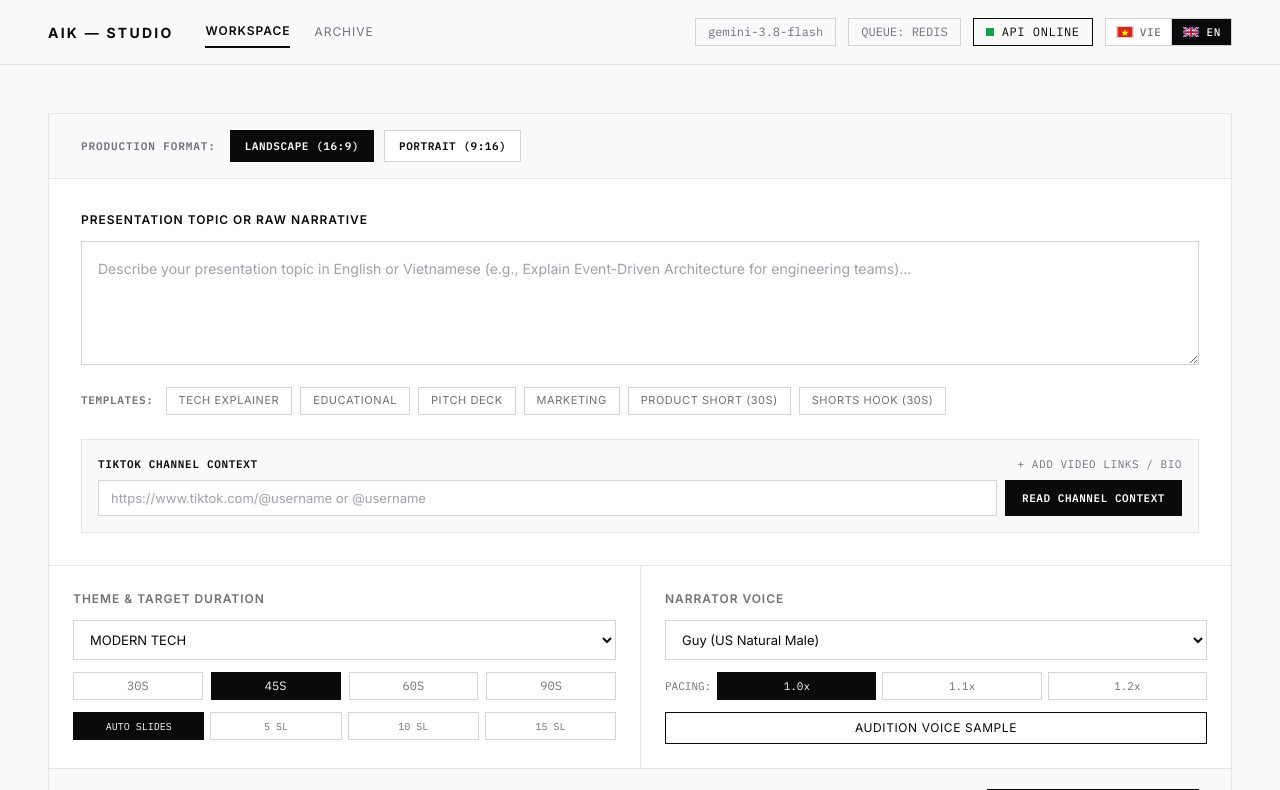
Scenario: Interactive Web Studio User Flows (jsdom + Testing Library) › defaults to EN on initial load, couples top-right VIE/EN switcher with narrator voice, and omits duplicate language buttons
Expected: the element with test id "api-status-chip" reads "API ONLINE", x1=1002 y1=24 x2=1080 y2=39
Expected: the 1st icon is shown, x1=1116 y1=26 x2=1134 y2=38
Click the button with test id "lang-switch-vie" at (1139, 32), box x1=1106 y1=19 x2=1172 y2=45
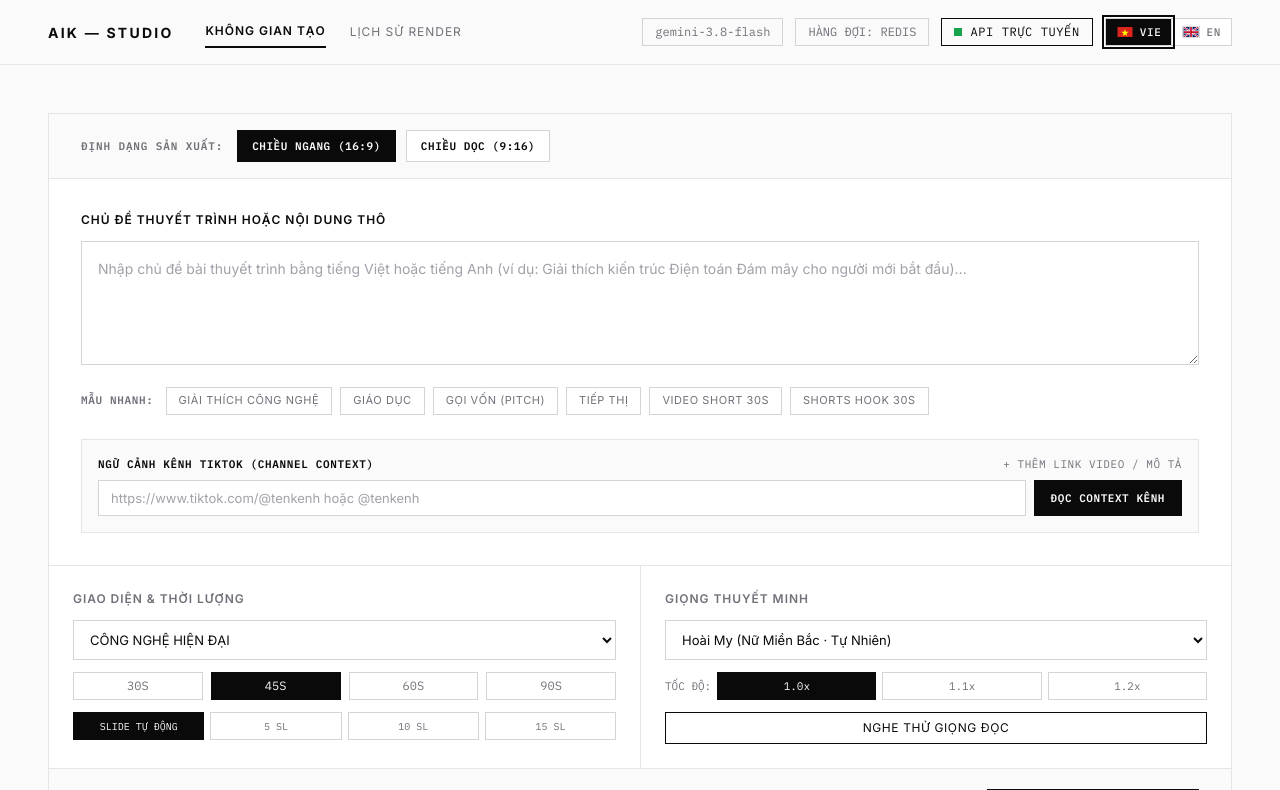
Expected: the text box labelled "Chủ Đề Thuyết Trình Hoặc Nội Dung Thô" is shown, x1=81 y1=241 x2=1199 y2=365
Result: the dropdown named "Narrator Voice Selection" shows "Hoài My (Nữ Miền Bắc · Tự Nhiên)" at x1=665 y1=620 x2=1207 y2=660
Click the button with test id "lang-switch-en" at (1202, 32), box x1=1172 y1=19 x2=1231 y2=45
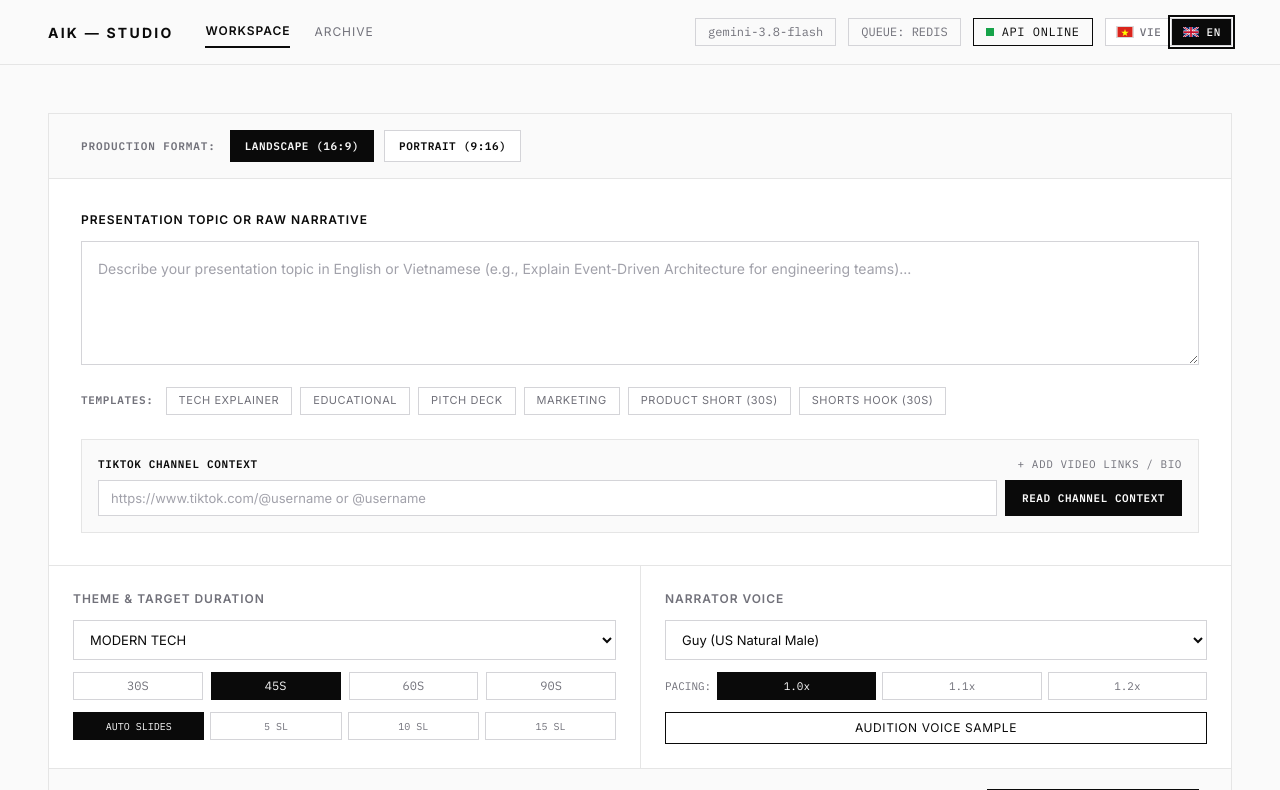
Expected: the text box labelled "Presentation Topic or Raw Narrative" is shown, x1=81 y1=241 x2=1199 y2=365
Result: the element with test id "api-status-chip" reads "API ONLINE" at x1=1002 y1=24 x2=1080 y2=39
Result: the dropdown named "Narrator Voice Selection" shows "Guy (US Natural Male)" at x1=665 y1=620 x2=1207 y2=660
